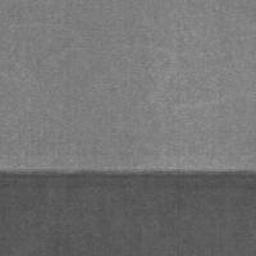Welding line: (0, 168, 256, 180)
